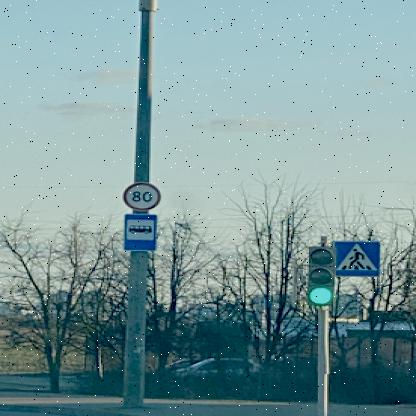crosswalk: (332, 238, 378, 276)
speedlimit: (121, 180, 160, 210)
trafficlight: (304, 243, 334, 304)
